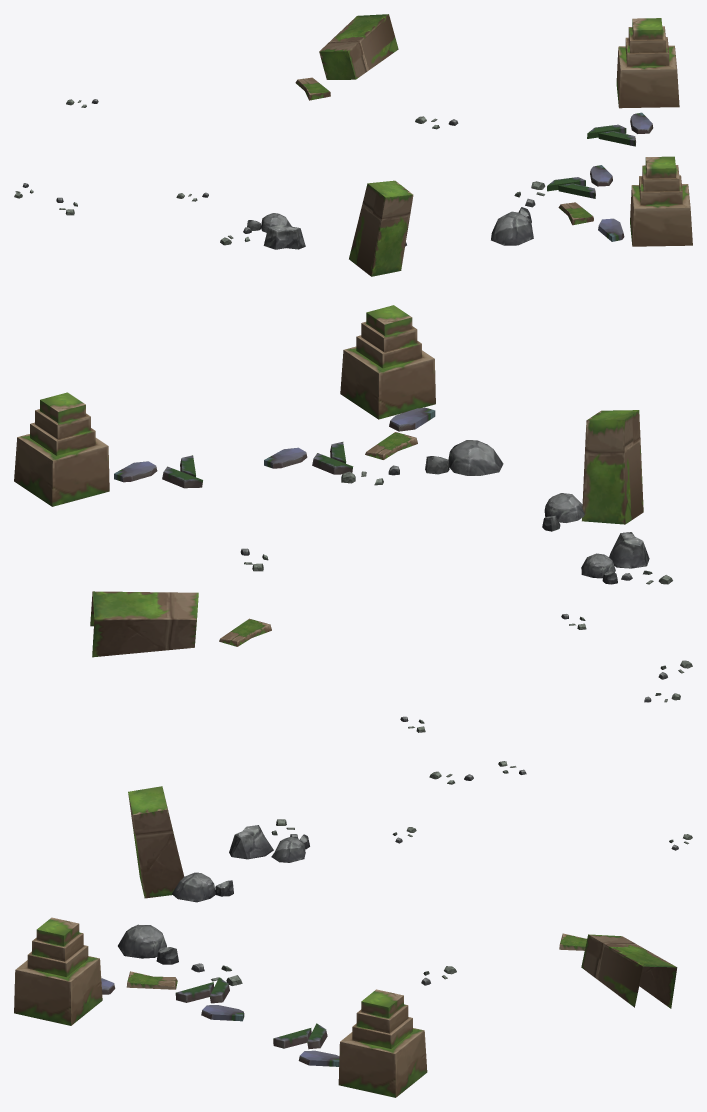
The model's file is boss3_wujian_1.fbx.
3 renders of one model, top to bottom at view 1: azimuth 30°, elevation 25°; view 2: azimuth 150°, elevation 25°; view 3: azimuth 270°, elevation 25°, orthographic. The views are drawn at different scales.
Parts seen in each view (by area): view 1: boss3_wujian_1; view 2: boss3_wujian_1; view 3: boss3_wujian_1.
Boxes of the visible parts, x1,y1,x2,y2 form: boss3_wujian_1: (14,14,692,276); boss3_wujian_1: (14,305,692,732); boss3_wujian_1: (14,761,692,1097).
Bounding box in the file's own units: 1873 × 262 × 1604.
